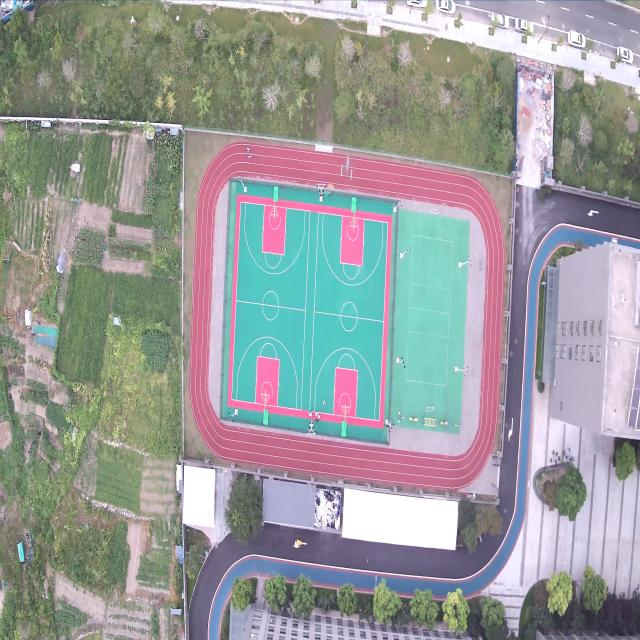drone: (341, 150, 354, 180)
